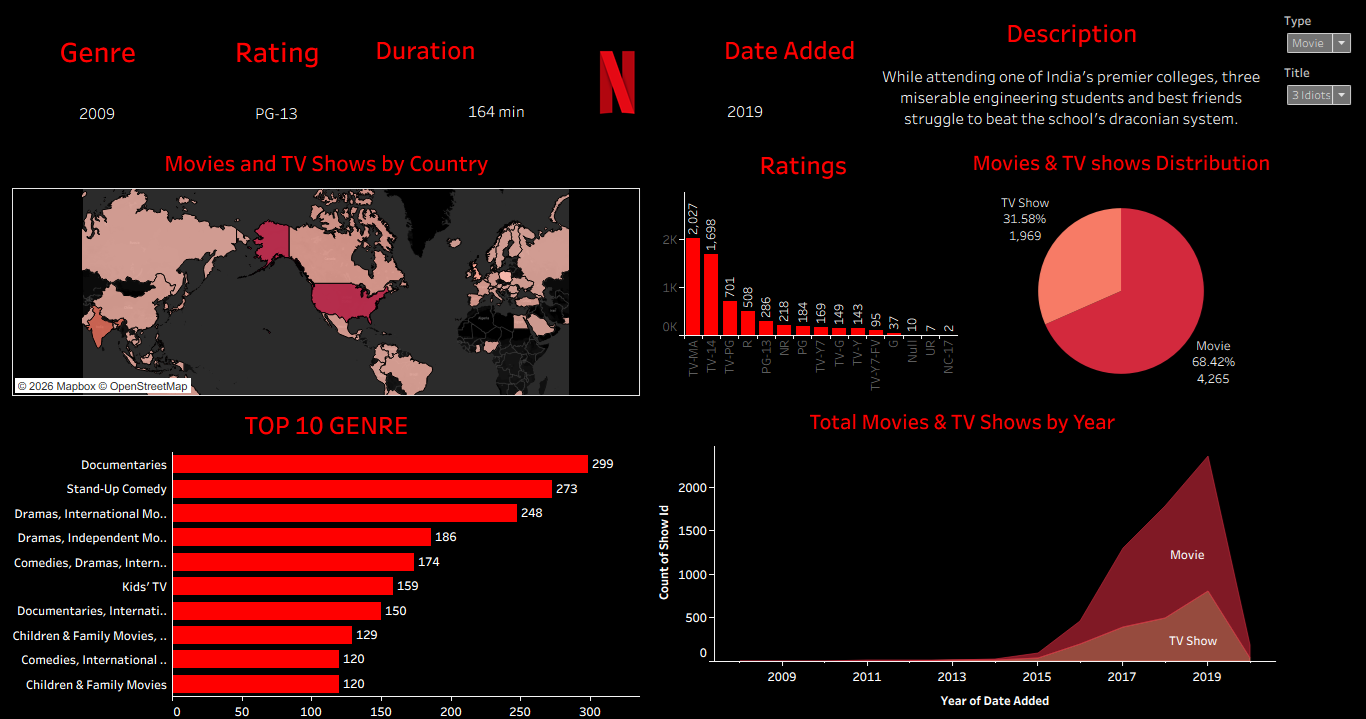

Layout of this report page (visuals, bound fields, positions):
{"tool":"tableau","page":{"name":"NETFLIX","canvas":[1000,1000],"units":"permille","ordinal":0},"visuals":[{"type":"worksheet","title":"Genre","mark":"Automatic","box":[6.7,13.7,130,178.1]},{"type":"worksheet","title":"Rating","mark":"Automatic","box":[136.7,13.7,130.1,178.1]},{"type":"worksheet","title":"Duration","mark":"Automatic","box":[266.9,13.7,188.3,178.1]},{"type":"image","param":"C:/MADAN/6-INTERNSHIP/DATA SCIENCE/Practice/Tableau/2772922.png","box":[395.8,13.7,112.1,195.2]},{"type":"worksheet","title":"Date(YEAR) added","mark":"Automatic","box":[455.2,13.7,171.1,178.1]},{"type":"worksheet","title":"Description","mark":"Automatic","box":[626.4,13.7,301.7,178.1]},{"type":"filter","title":"Description","param":"[federated.0unphyn0ztx7vo11p8myy08qawh2].[none:type:nk]","box":[928,13.7,65.3,89]},{"type":"filter","title":"Description","param":"[federated.0unphyn0ztx7vo11p8myy08qawh2].[none:title:nk]","box":[928,102.7,65.3,89]},{"type":"worksheet","title":"Movies and TV Shows by Country","mark":"Multipolygon","box":[6.7,191.8,460.5,349.7]},{"type":"worksheet","title":"Ratings","mark":"Automatic","rows":["show_id"],"cols":["rating"],"box":[467.2,191.8,230.4,349.2]},{"type":"worksheet","title":"Movies & TV shows Distribution","mark":"Pie","box":[697.6,191.8,230.5,349.2]},{"type":"worksheet","title":"Total Movies & TV Shows by Year","mark":"Area","rows":["show_id"],"cols":["date_added"],"box":[467.2,541,460.8,445.3]},{"type":"worksheet","title":"top 10 genre","mark":"Automatic","rows":["listed_in"],"cols":["show_id"],"box":[6.7,541.5,460.5,444.9]}]}

Visuals, with their boxes on the dashboard's canvas, which has no fixed pixel size, in thousandths of its width and height (x1, y1, x2, y2). These are canvas units, not pixel positions in the 1366x719 screenshot, which may show the page scaled, cropped or inside an application window:
"Genre" worksheet: 7, 14, 137, 192
"Rating" worksheet: 137, 14, 267, 192
"Duration" worksheet: 267, 14, 455, 192
image: 396, 14, 508, 209
"Date(YEAR) added" worksheet: 455, 14, 626, 192
"Description" worksheet: 626, 14, 928, 192
"Description" filter: 928, 14, 993, 103
"Description" filter: 928, 103, 993, 192
"Movies and TV Shows by Country" worksheet (Multipolygon marks): 7, 192, 467, 542
"Ratings" worksheet: 467, 192, 698, 541
"Movies & TV shows Distribution" worksheet (Pie marks): 698, 192, 928, 541
"Total Movies & TV Shows by Year" worksheet (Area marks): 467, 541, 928, 986
"top 10 genre" worksheet: 7, 542, 467, 986
